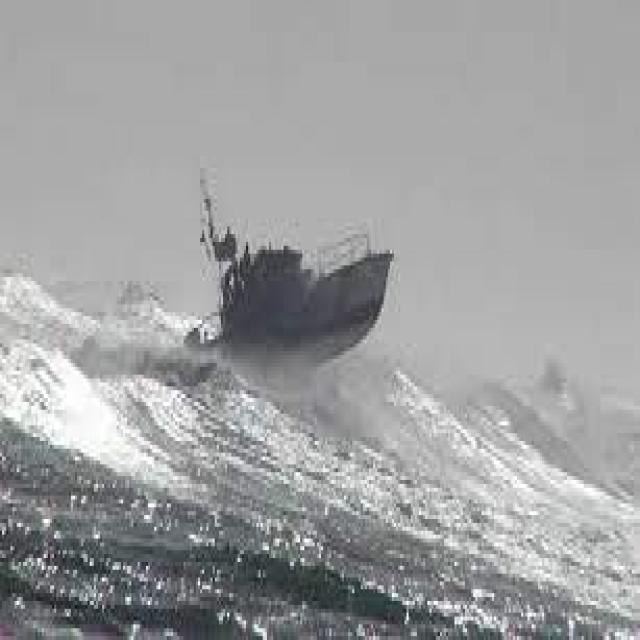houseboat: (175, 164, 390, 374)
